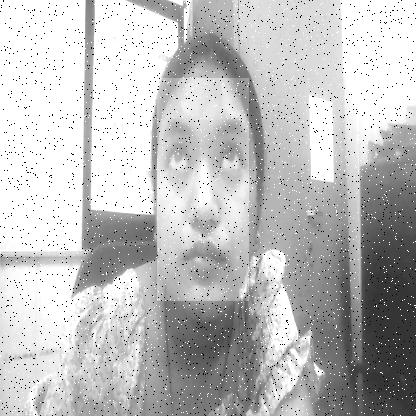Normal: (158, 78, 250, 301)
